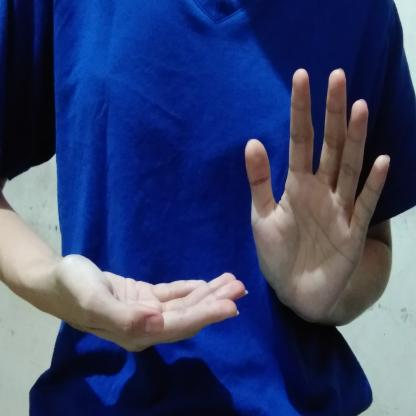hello: (46, 60, 397, 360)
